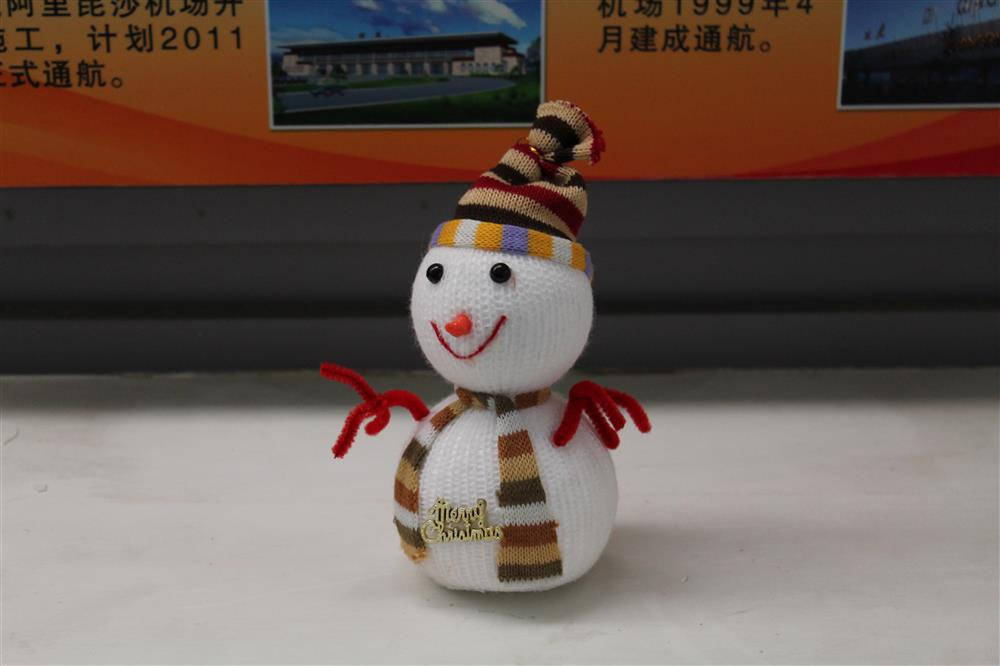toy_snowman: (334, 103, 655, 591)
